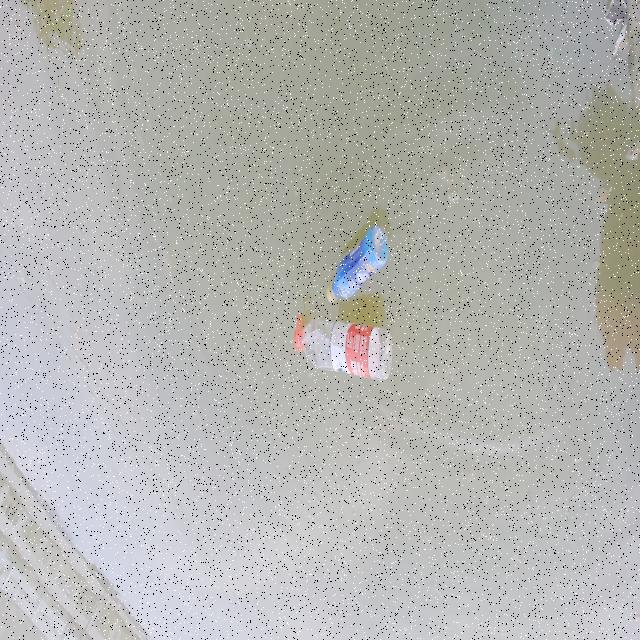Bottle: (290, 312, 394, 386), (322, 224, 392, 304)
